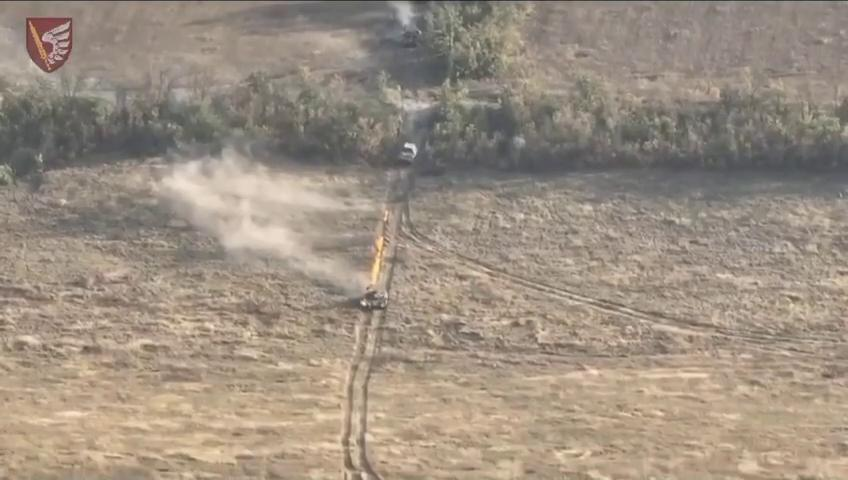tank: (359, 279, 392, 319), (396, 137, 420, 168), (396, 23, 422, 49)
